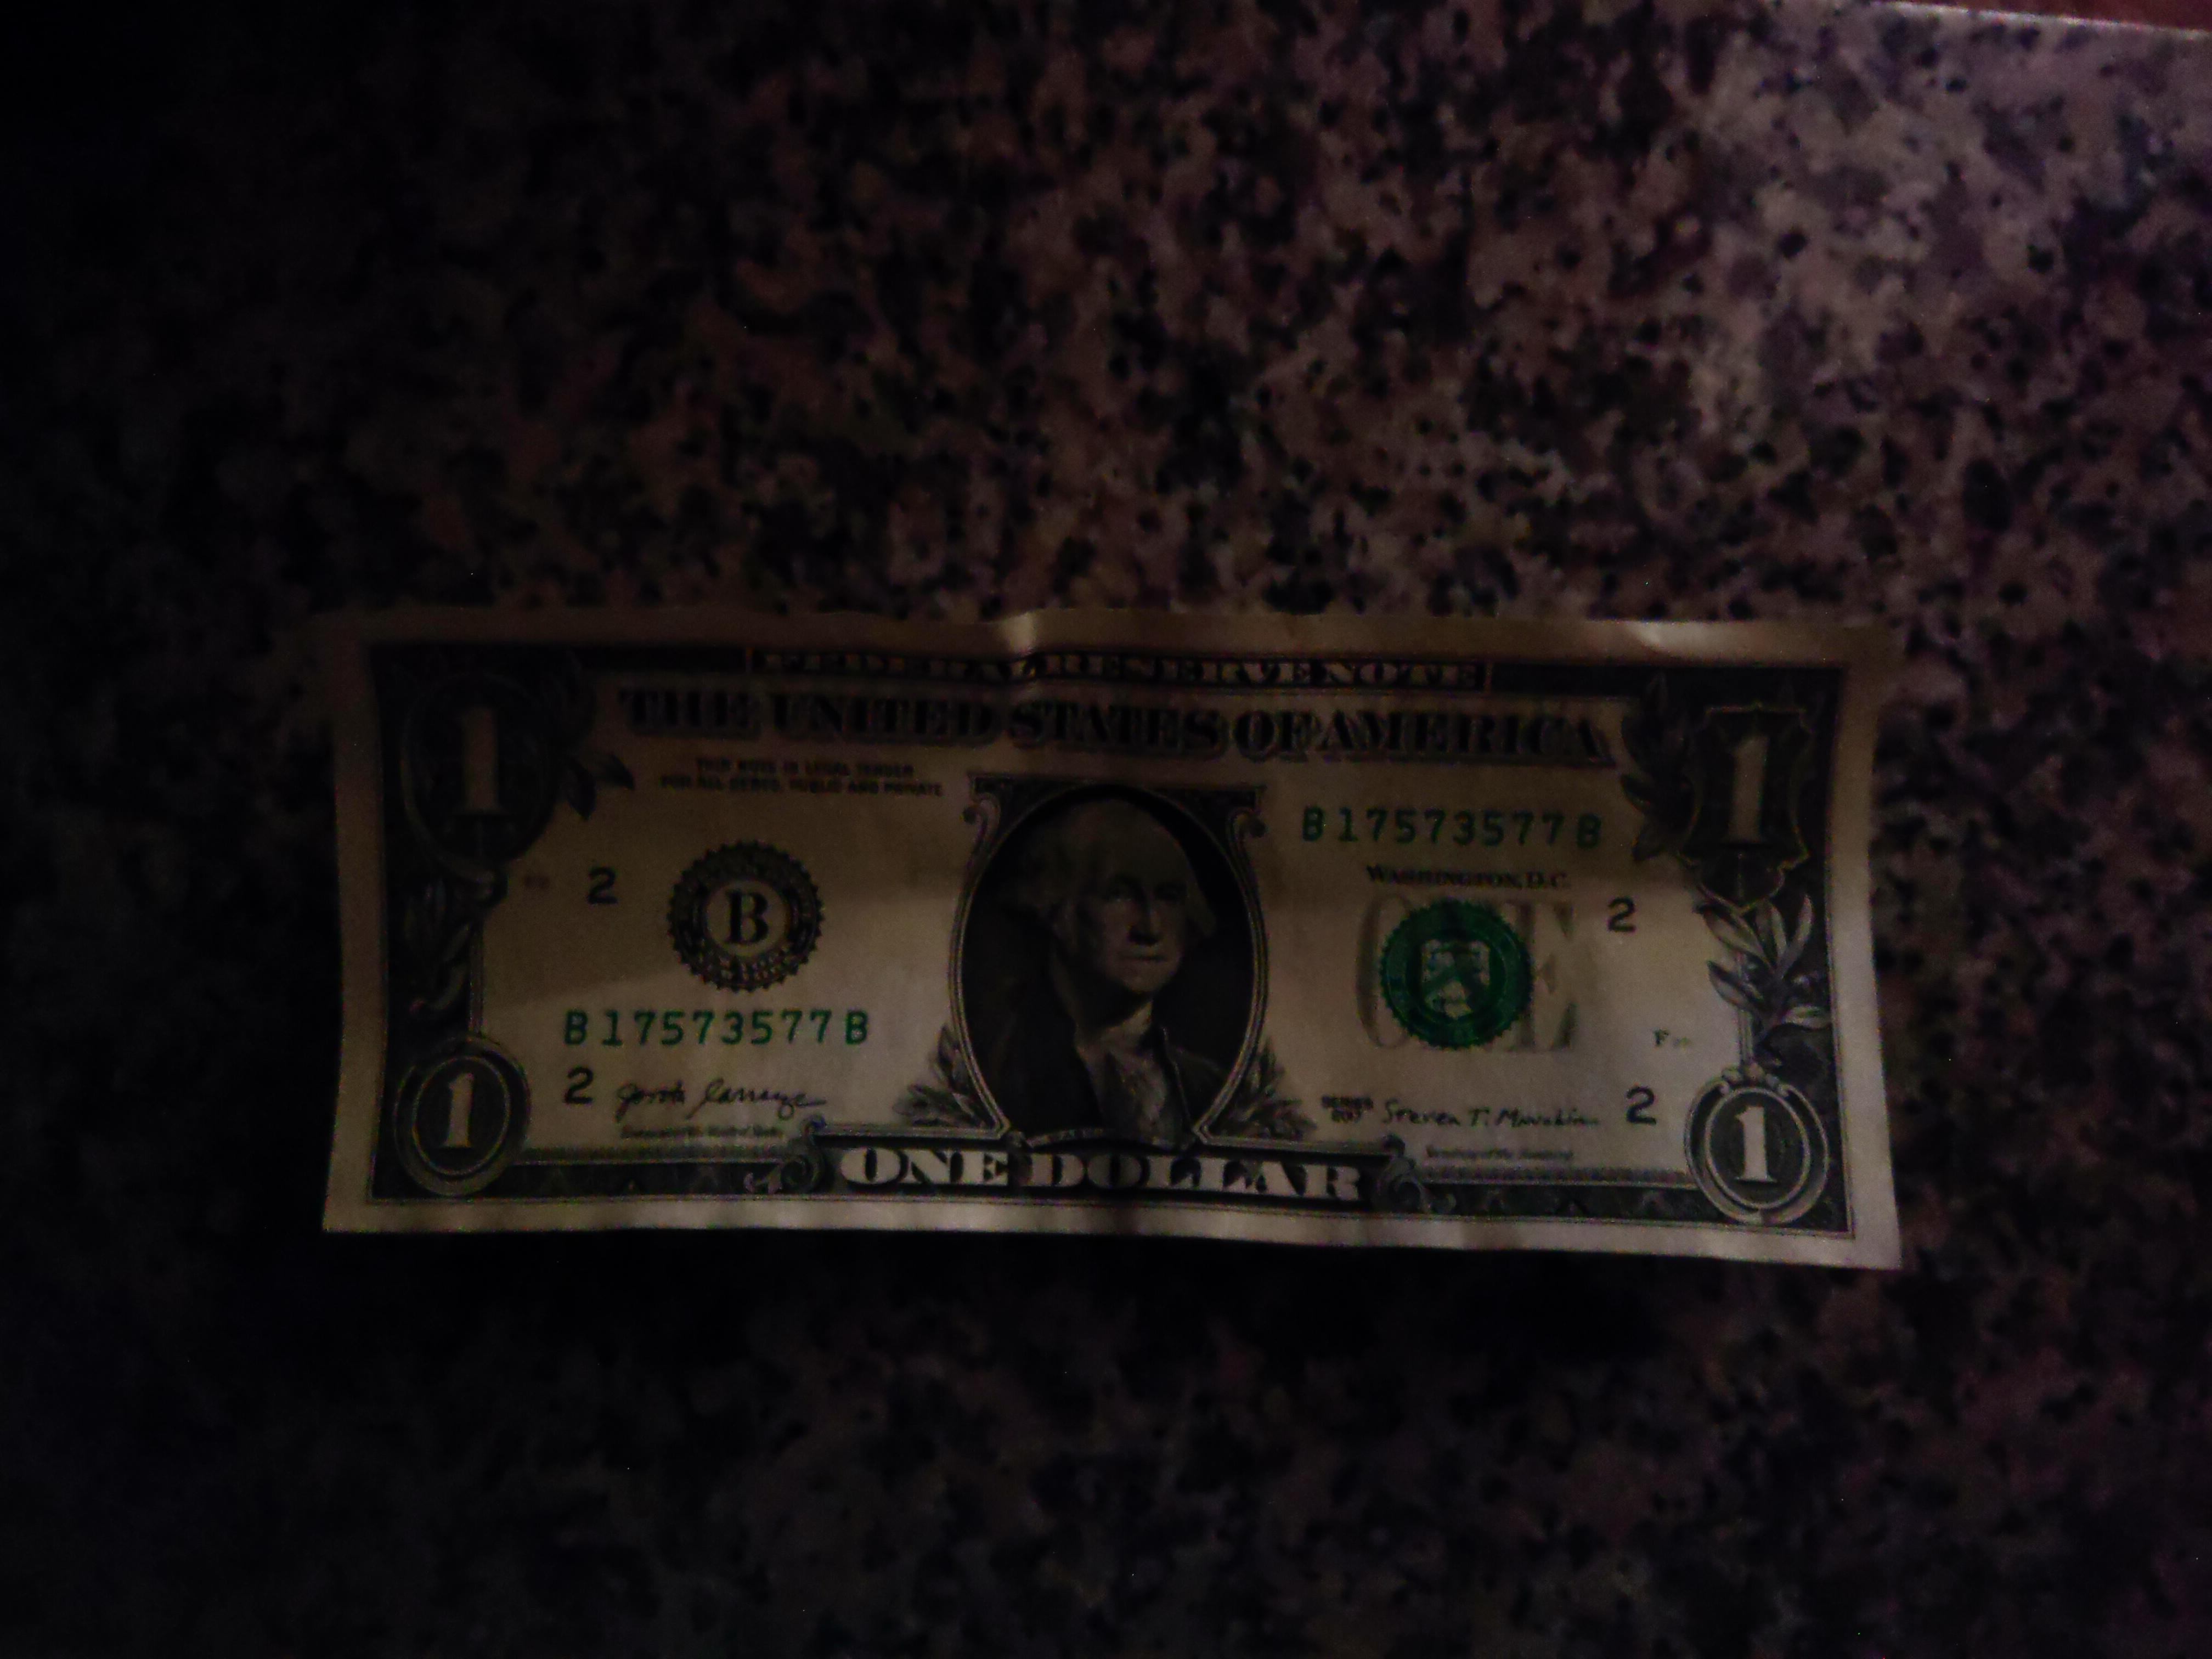OneBill: (307, 596, 1905, 1267)
